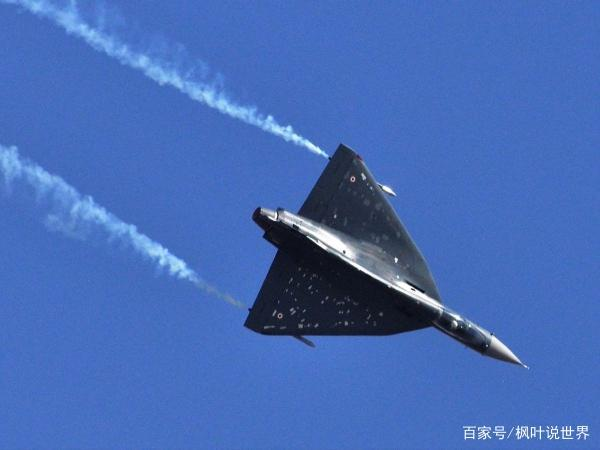airplane: (239, 144, 531, 369)
